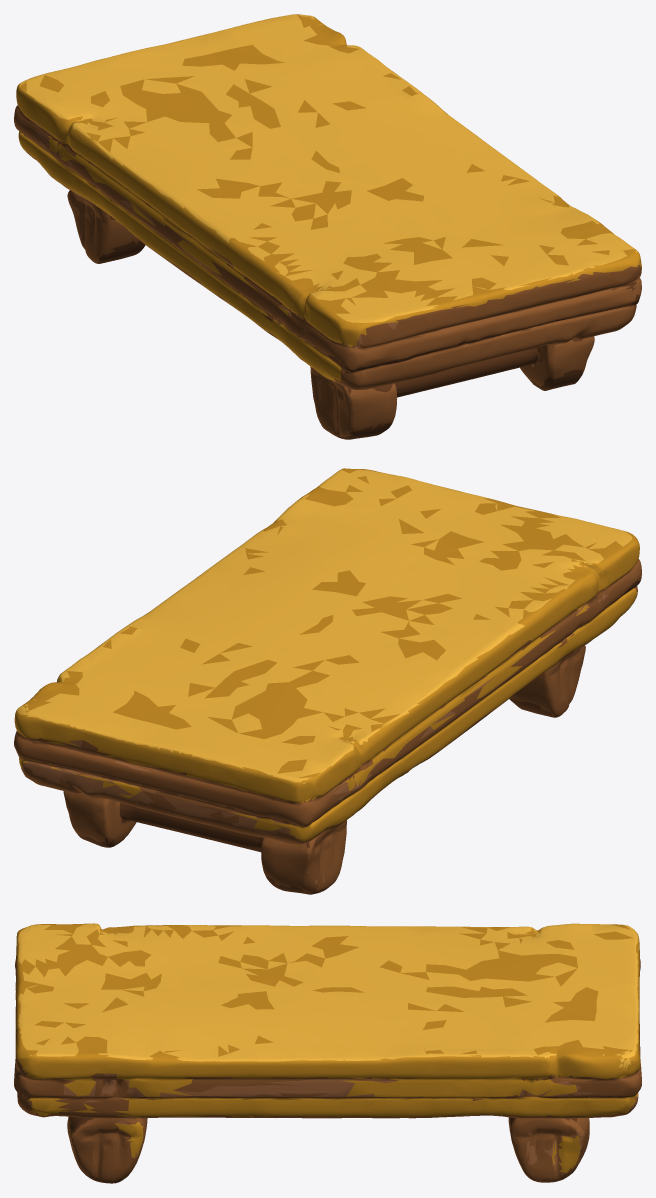
Rendered from SM_table_low_wood.glb.
3 views of the same model, one above another, from view 1: azimuth 30°, elevation 25°; view 2: azimuth 150°, elevation 25°; view 3: azimuth 270°, elevation 25° (orthographic). The views are drawn at different scales.
Parts seen in each view (by area): view 1: SM_table_low_wood; view 2: SM_table_low_wood; view 3: SM_table_low_wood.
Part boxes in pixels (<box>): SM_table_low_wood: <box>14,14,641,439</box>; SM_table_low_wood: <box>14,468,641,894</box>; SM_table_low_wood: <box>14,923,641,1183</box>.
Bounding box in the file's own units: 0.7215 × 0.35 × 1.41.
Materials: 1 (1 with a texture image).
